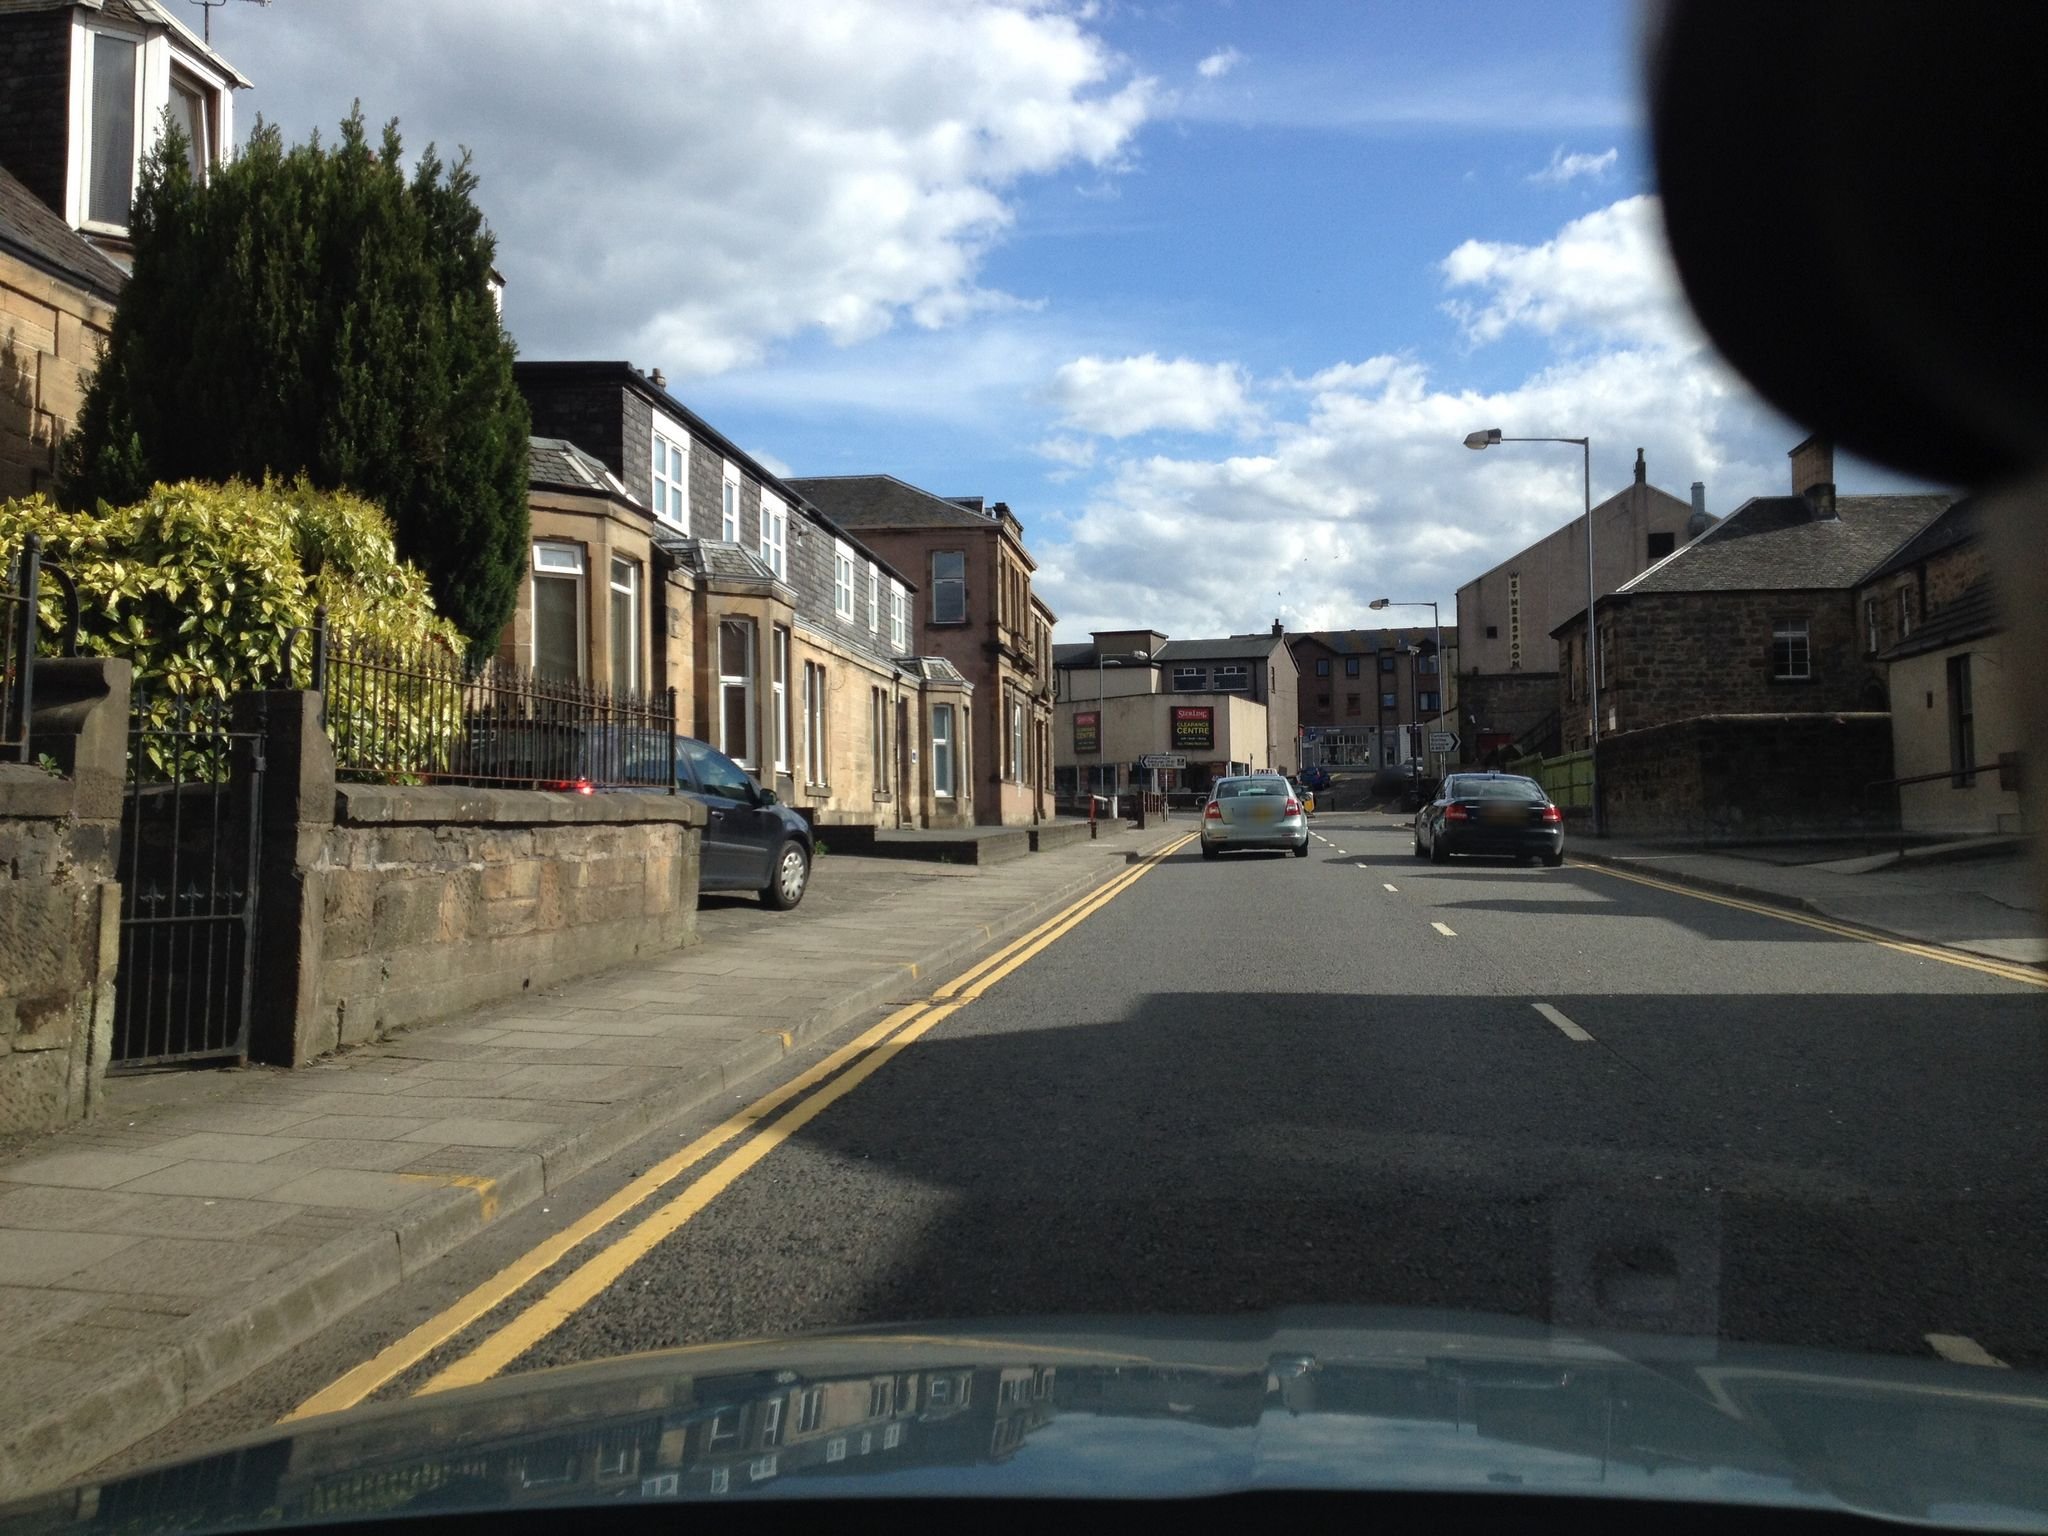car: (461, 715, 814, 913), (1414, 766, 1563, 866), (1193, 768, 1309, 857)
